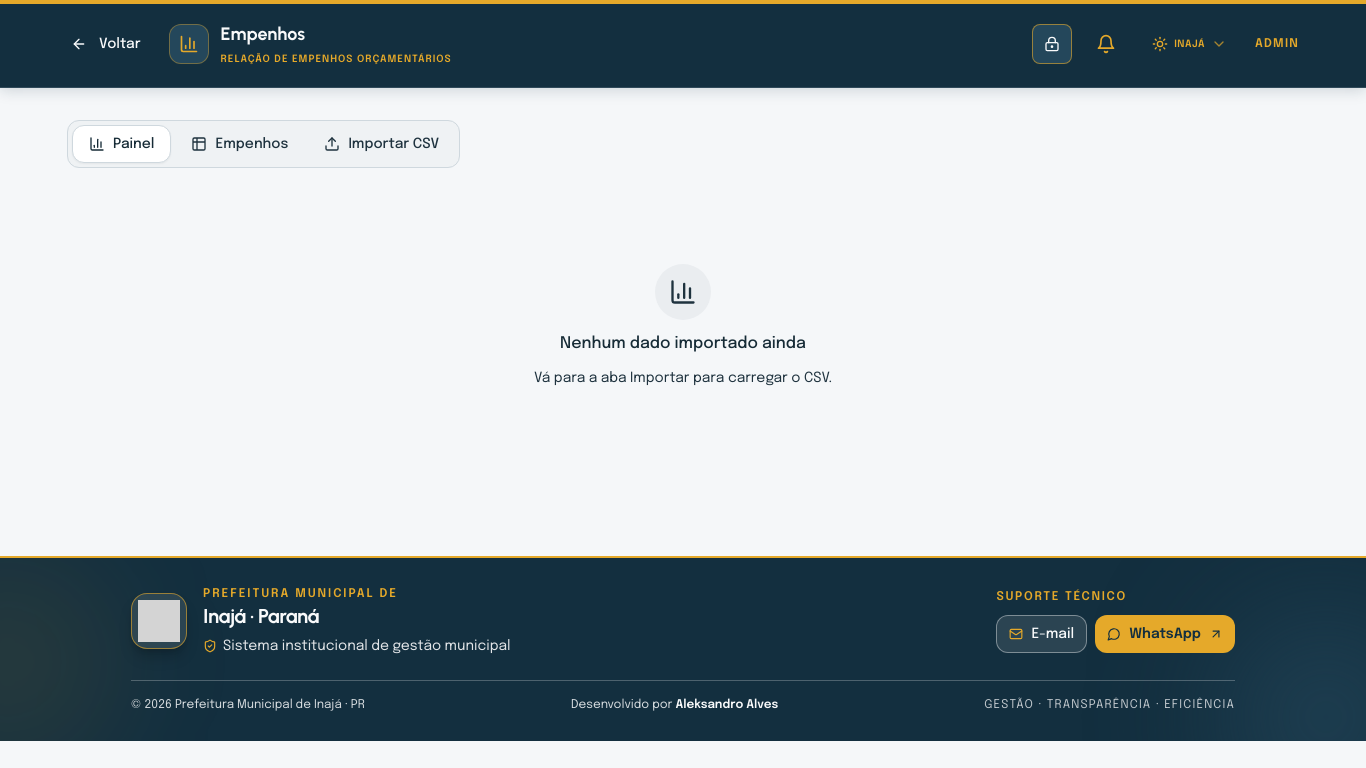
Empenhos – Tabela com filtros › é ativável por teclado (Enter) e abre o painel
This screenshot has width=1366, height=768.
Step 1. Click the tab "Empenhos" → (240, 144), box [176,125,304,163]
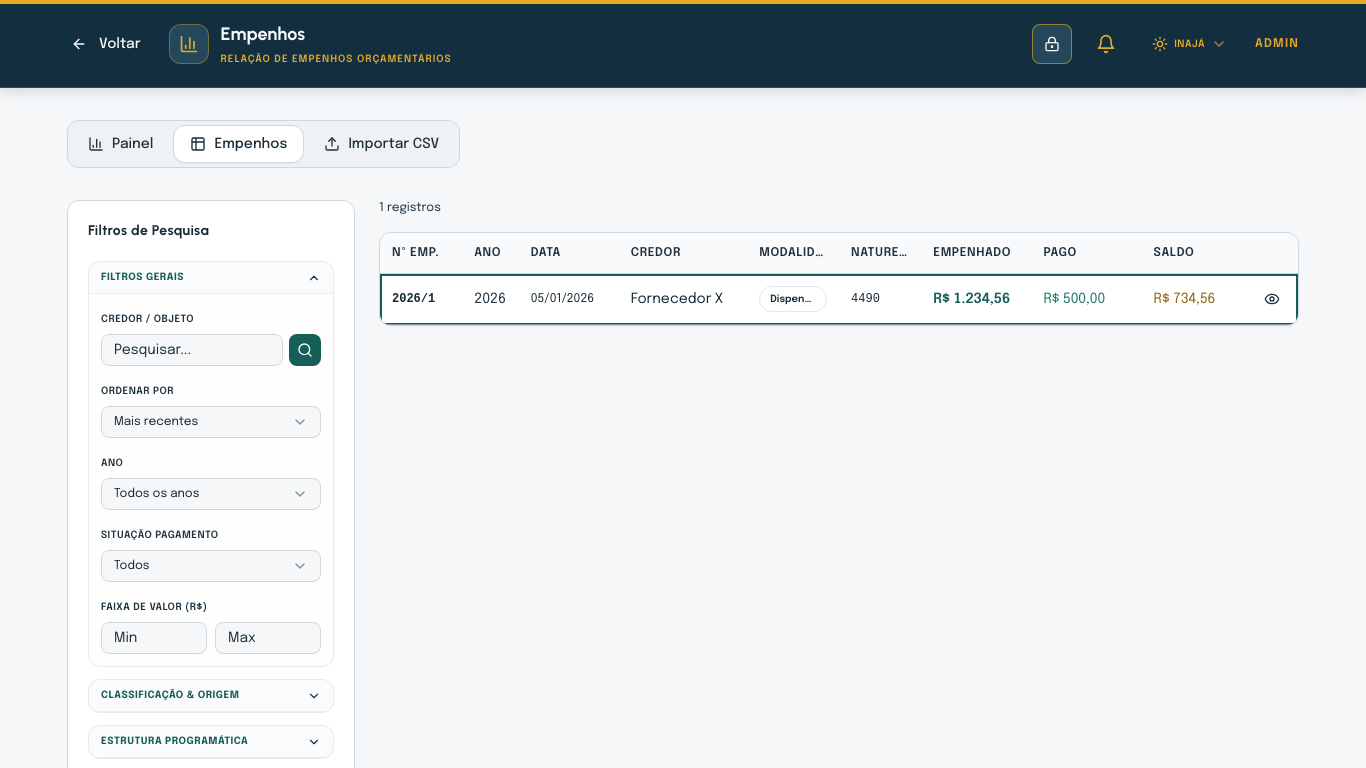
Step 2. Press Enter
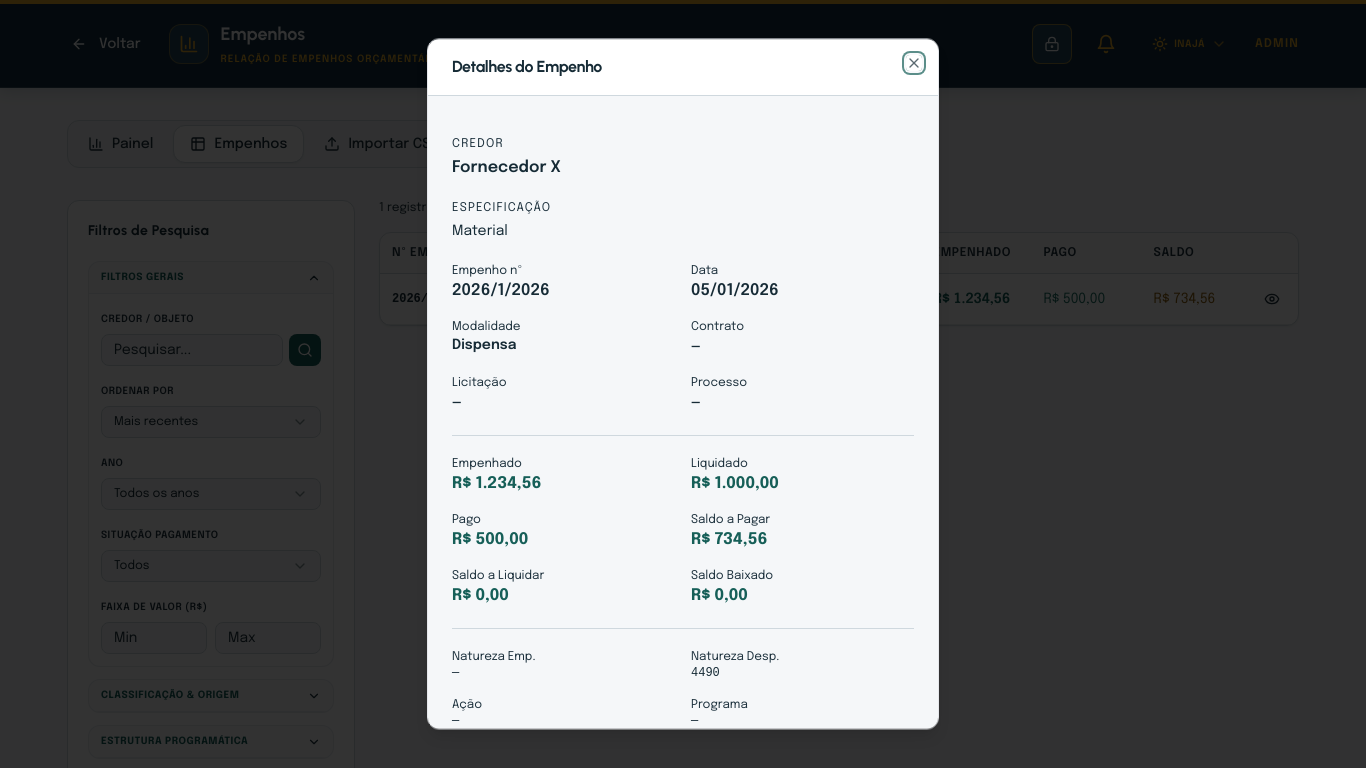
Expected: the dialog is shown, [427,38,939,730]
